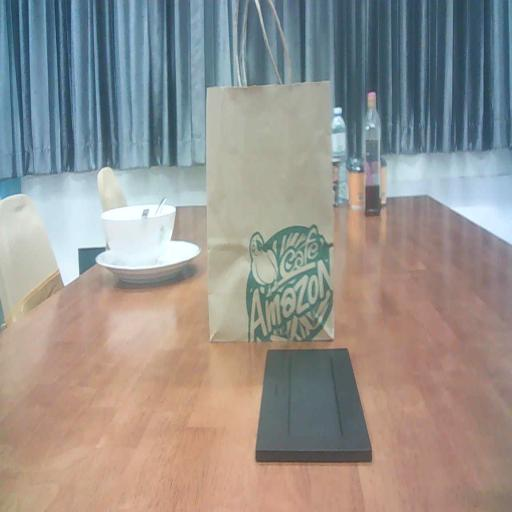bag: (206, 78, 340, 351)
